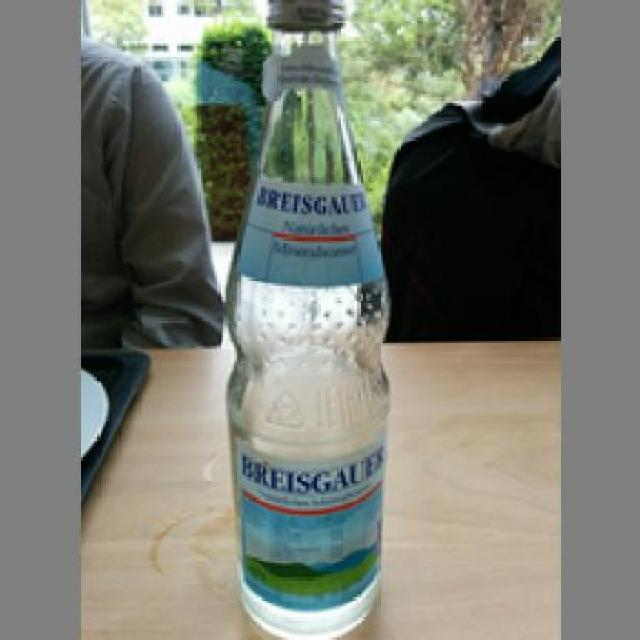Water: (222, 0, 395, 637)
